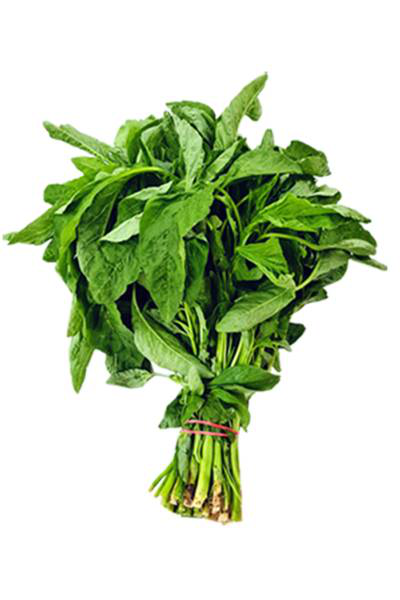Bayam: (4, 67, 394, 576)
